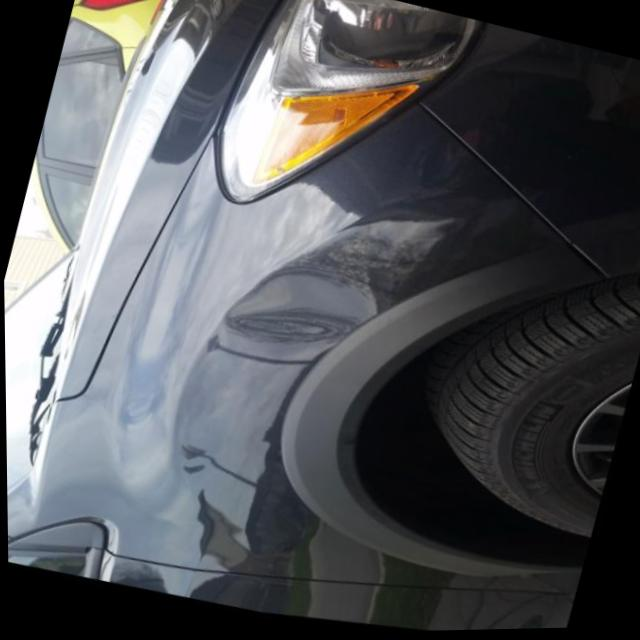Dent: (178, 206, 414, 408)
